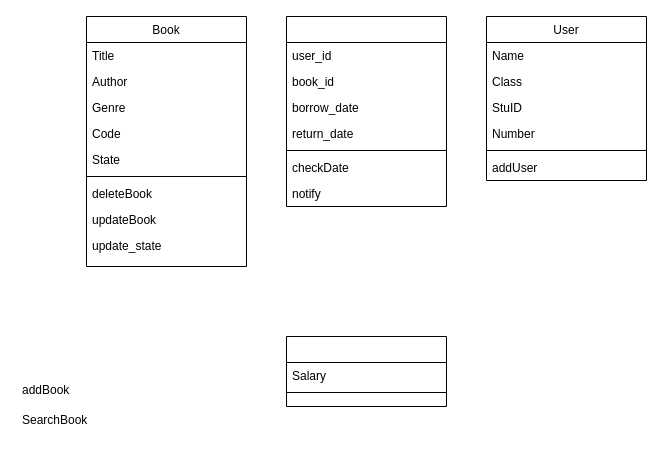
This 663x449 diagram has some shape labels left out. Here are the shapes that lost their labels. From the top down, the box of each, then its label:
(286, 16, 446, 206): Transactions
(286, 336, 446, 406): Database
